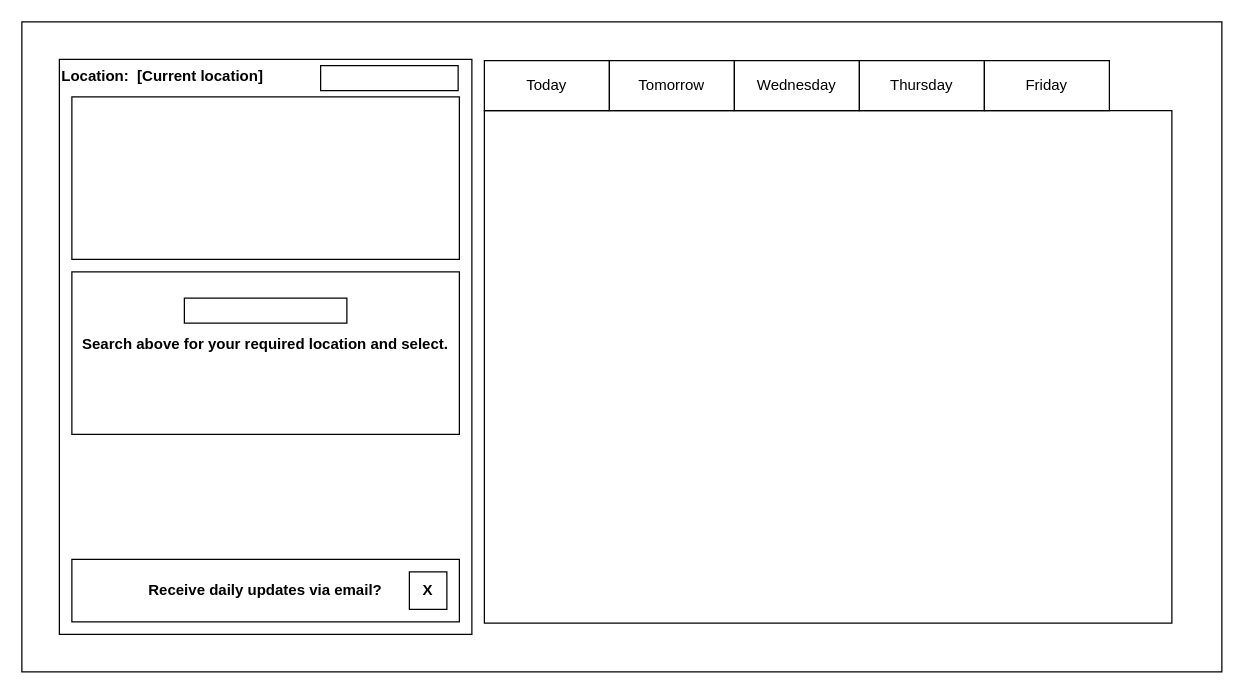
This 1244x694 diagram has some shape labels left out. The shapes that lost their labels are listed below. From the top down, each one's box as (x1, y1, x2, y2) in pixels, then its label:
(319, 64, 458, 91): Add to Favourites
(71, 96, 459, 259): Favourites list : Liverpool. Manchester Rome Alacante
(183, 297, 347, 323): Search Location
(483, 109, 1172, 623): Selected Weather details shown here
